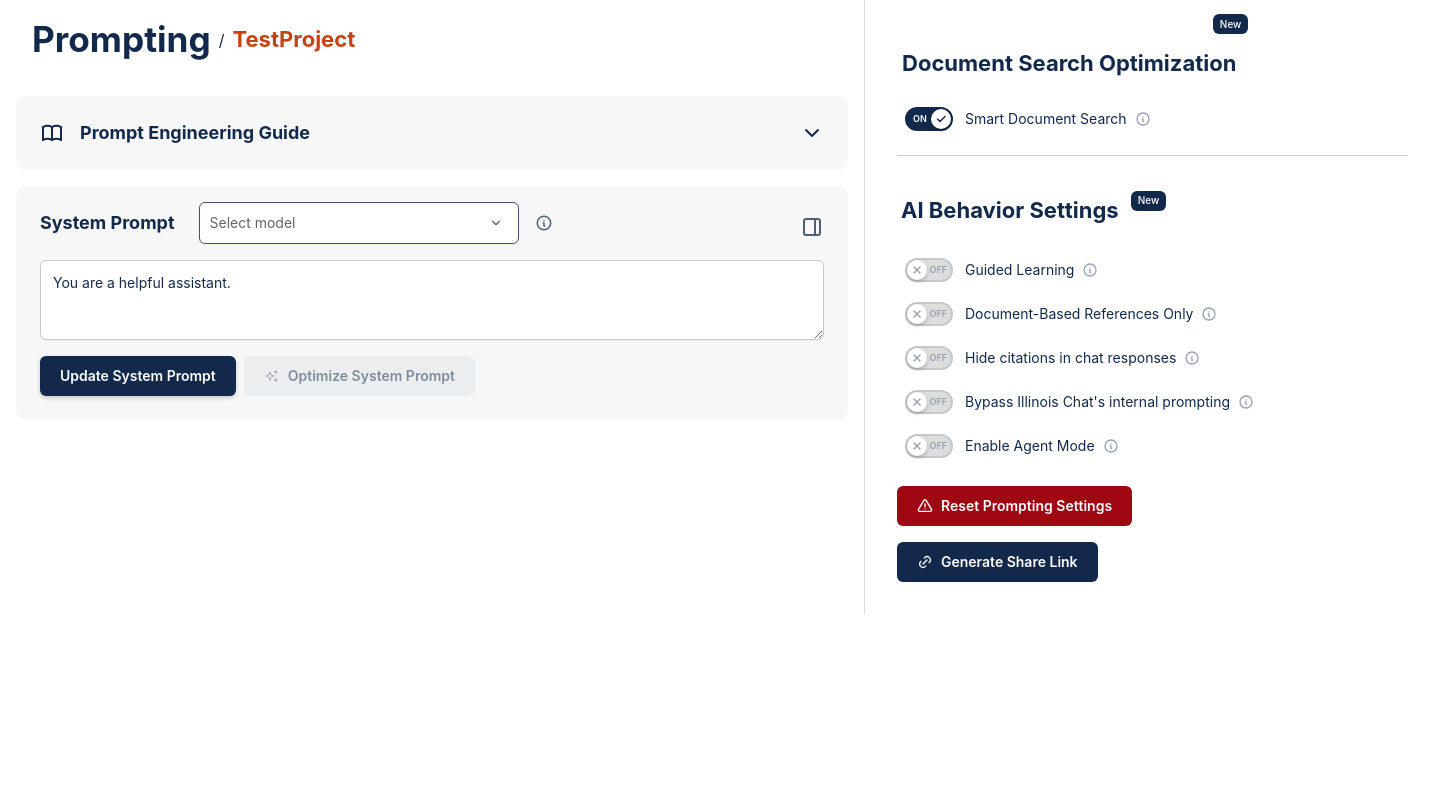
Test: PromptEditor › Prompt Engineering Guide › toggles guide open/closed on click
Check: the heading "Prompt Engineering Guide" is shown, box [80,122,310,142]
# Click the guide header to expand
Click the button "Prompt Engineering Guide" at (195, 132), box [40,121,824,145]
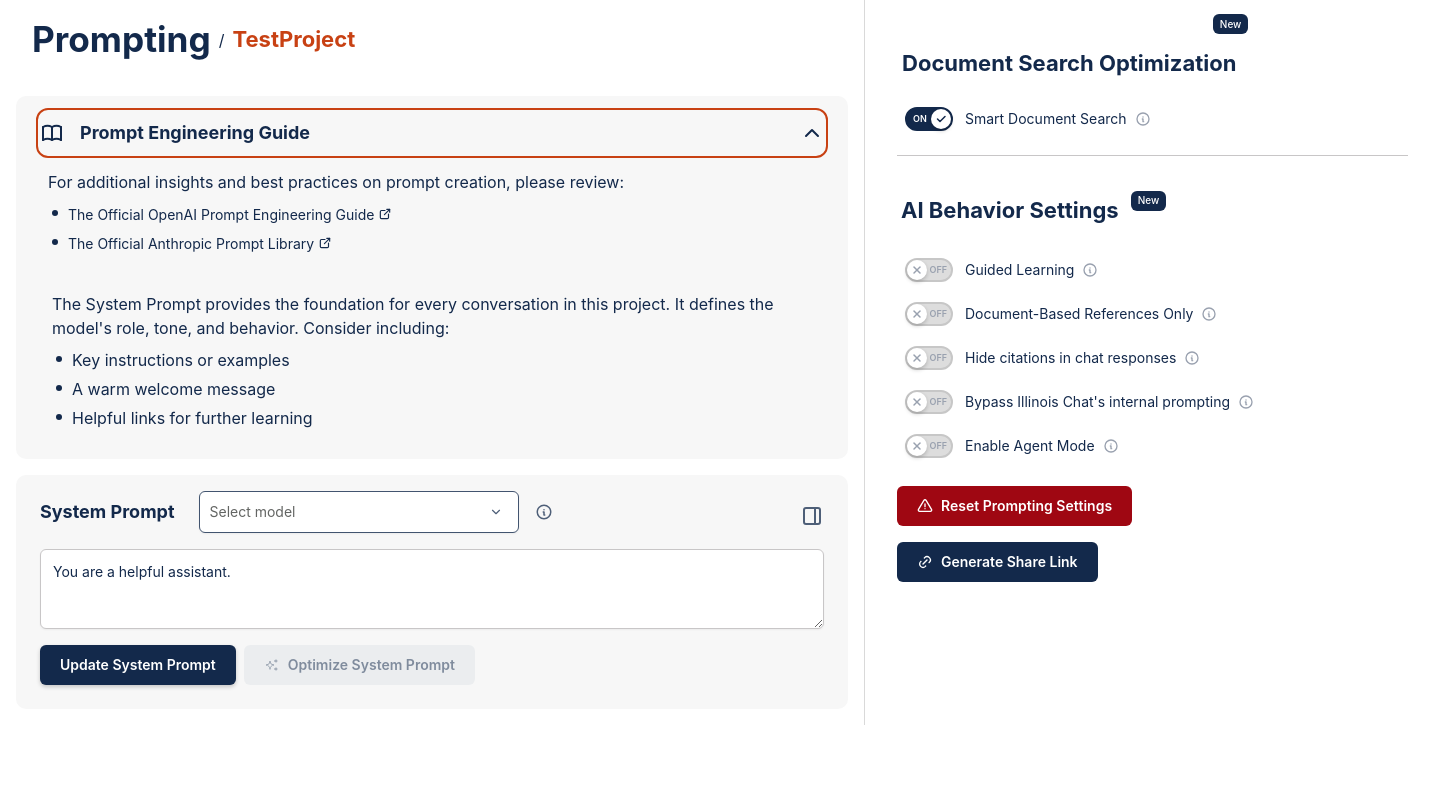
Check: the text "For additional insights and best practices" is shown, box [48,172,624,192]
